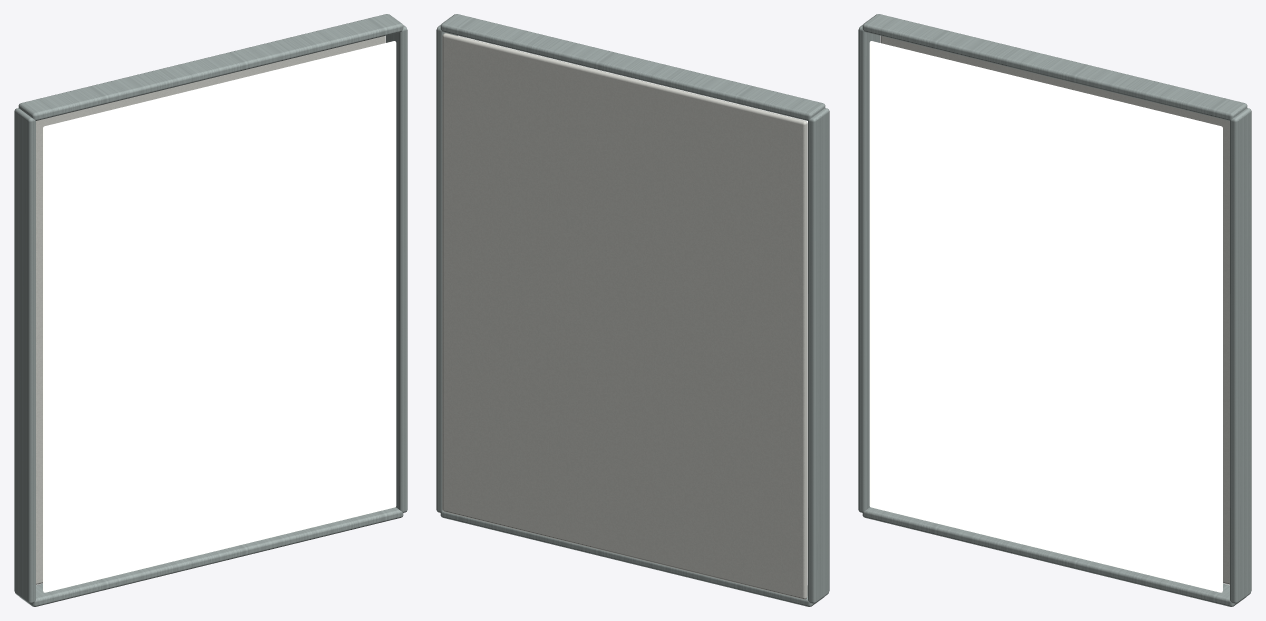
Rendered from detail-lightbox-0.glb.
The picture shows the model from 3 angles, left to right: view 1: azimuth 30°, elevation 25°; view 2: azimuth 150°, elevation 25°; view 3: azimuth 330°, elevation 25°; orthographic projection.
Visible parts, largest first — view 1: graphic_surface, frame_side (×2), frame_rail (×2), panel_back; view 2: panel_back, frame_side (×2), frame_rail (×2), graphic_surface; view 3: graphic_surface, frame_side (×2), frame_rail (×2), panel_back.
Part boxes in pixels (x1,y1,x2,y2): graphic_surface: (43,41,396,592); frame_side (×2): (14,24,407,603); frame_rail (×2): (18,14,403,606); panel_back: (36,36,385,584); panel_back: (442,33,807,599); frame_side (×2): (436,24,829,603); frame_rail (×2): (440,14,825,606); graphic_surface: (465,37,807,577); graphic_surface: (869,41,1222,592); frame_side (×2): (858,24,1251,603); frame_rail (×2): (862,14,1247,606); panel_back: (880,36,1229,584).
Size of the model in its own units: 1.64 by 2.04 by 0.1445.
3 materials, 2 textured.
